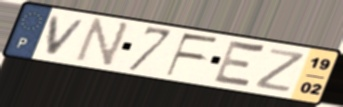7: (125, 25, 176, 73)
E: (210, 38, 269, 92)
F: (164, 32, 222, 78)
N: (72, 16, 134, 70)
V: (44, 14, 90, 58)
Z: (252, 46, 309, 95)
